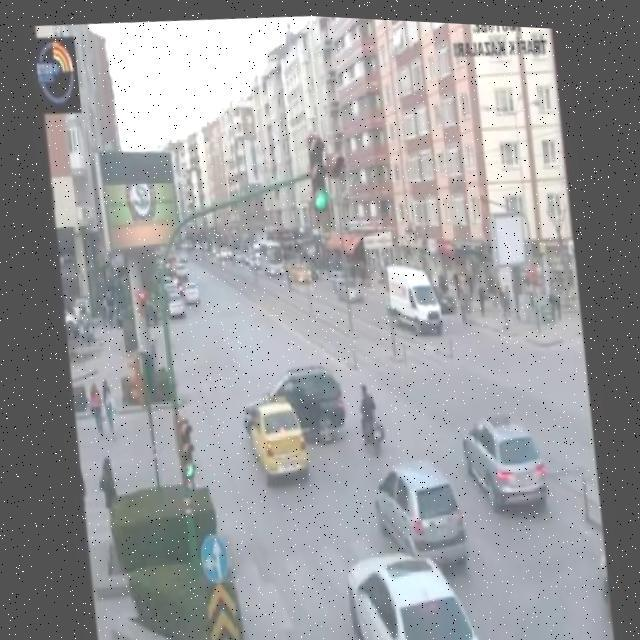Car Accident Detector - v4 Generation1 Exported: (235, 358, 353, 488)
